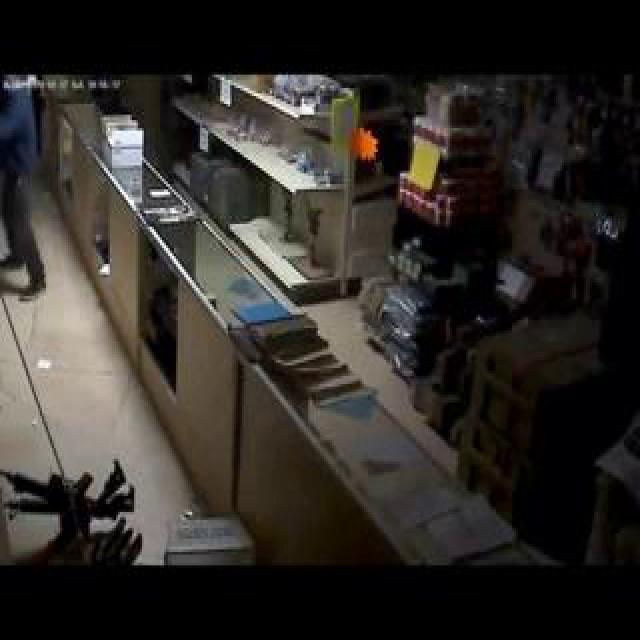burglary: (1, 66, 94, 434)
